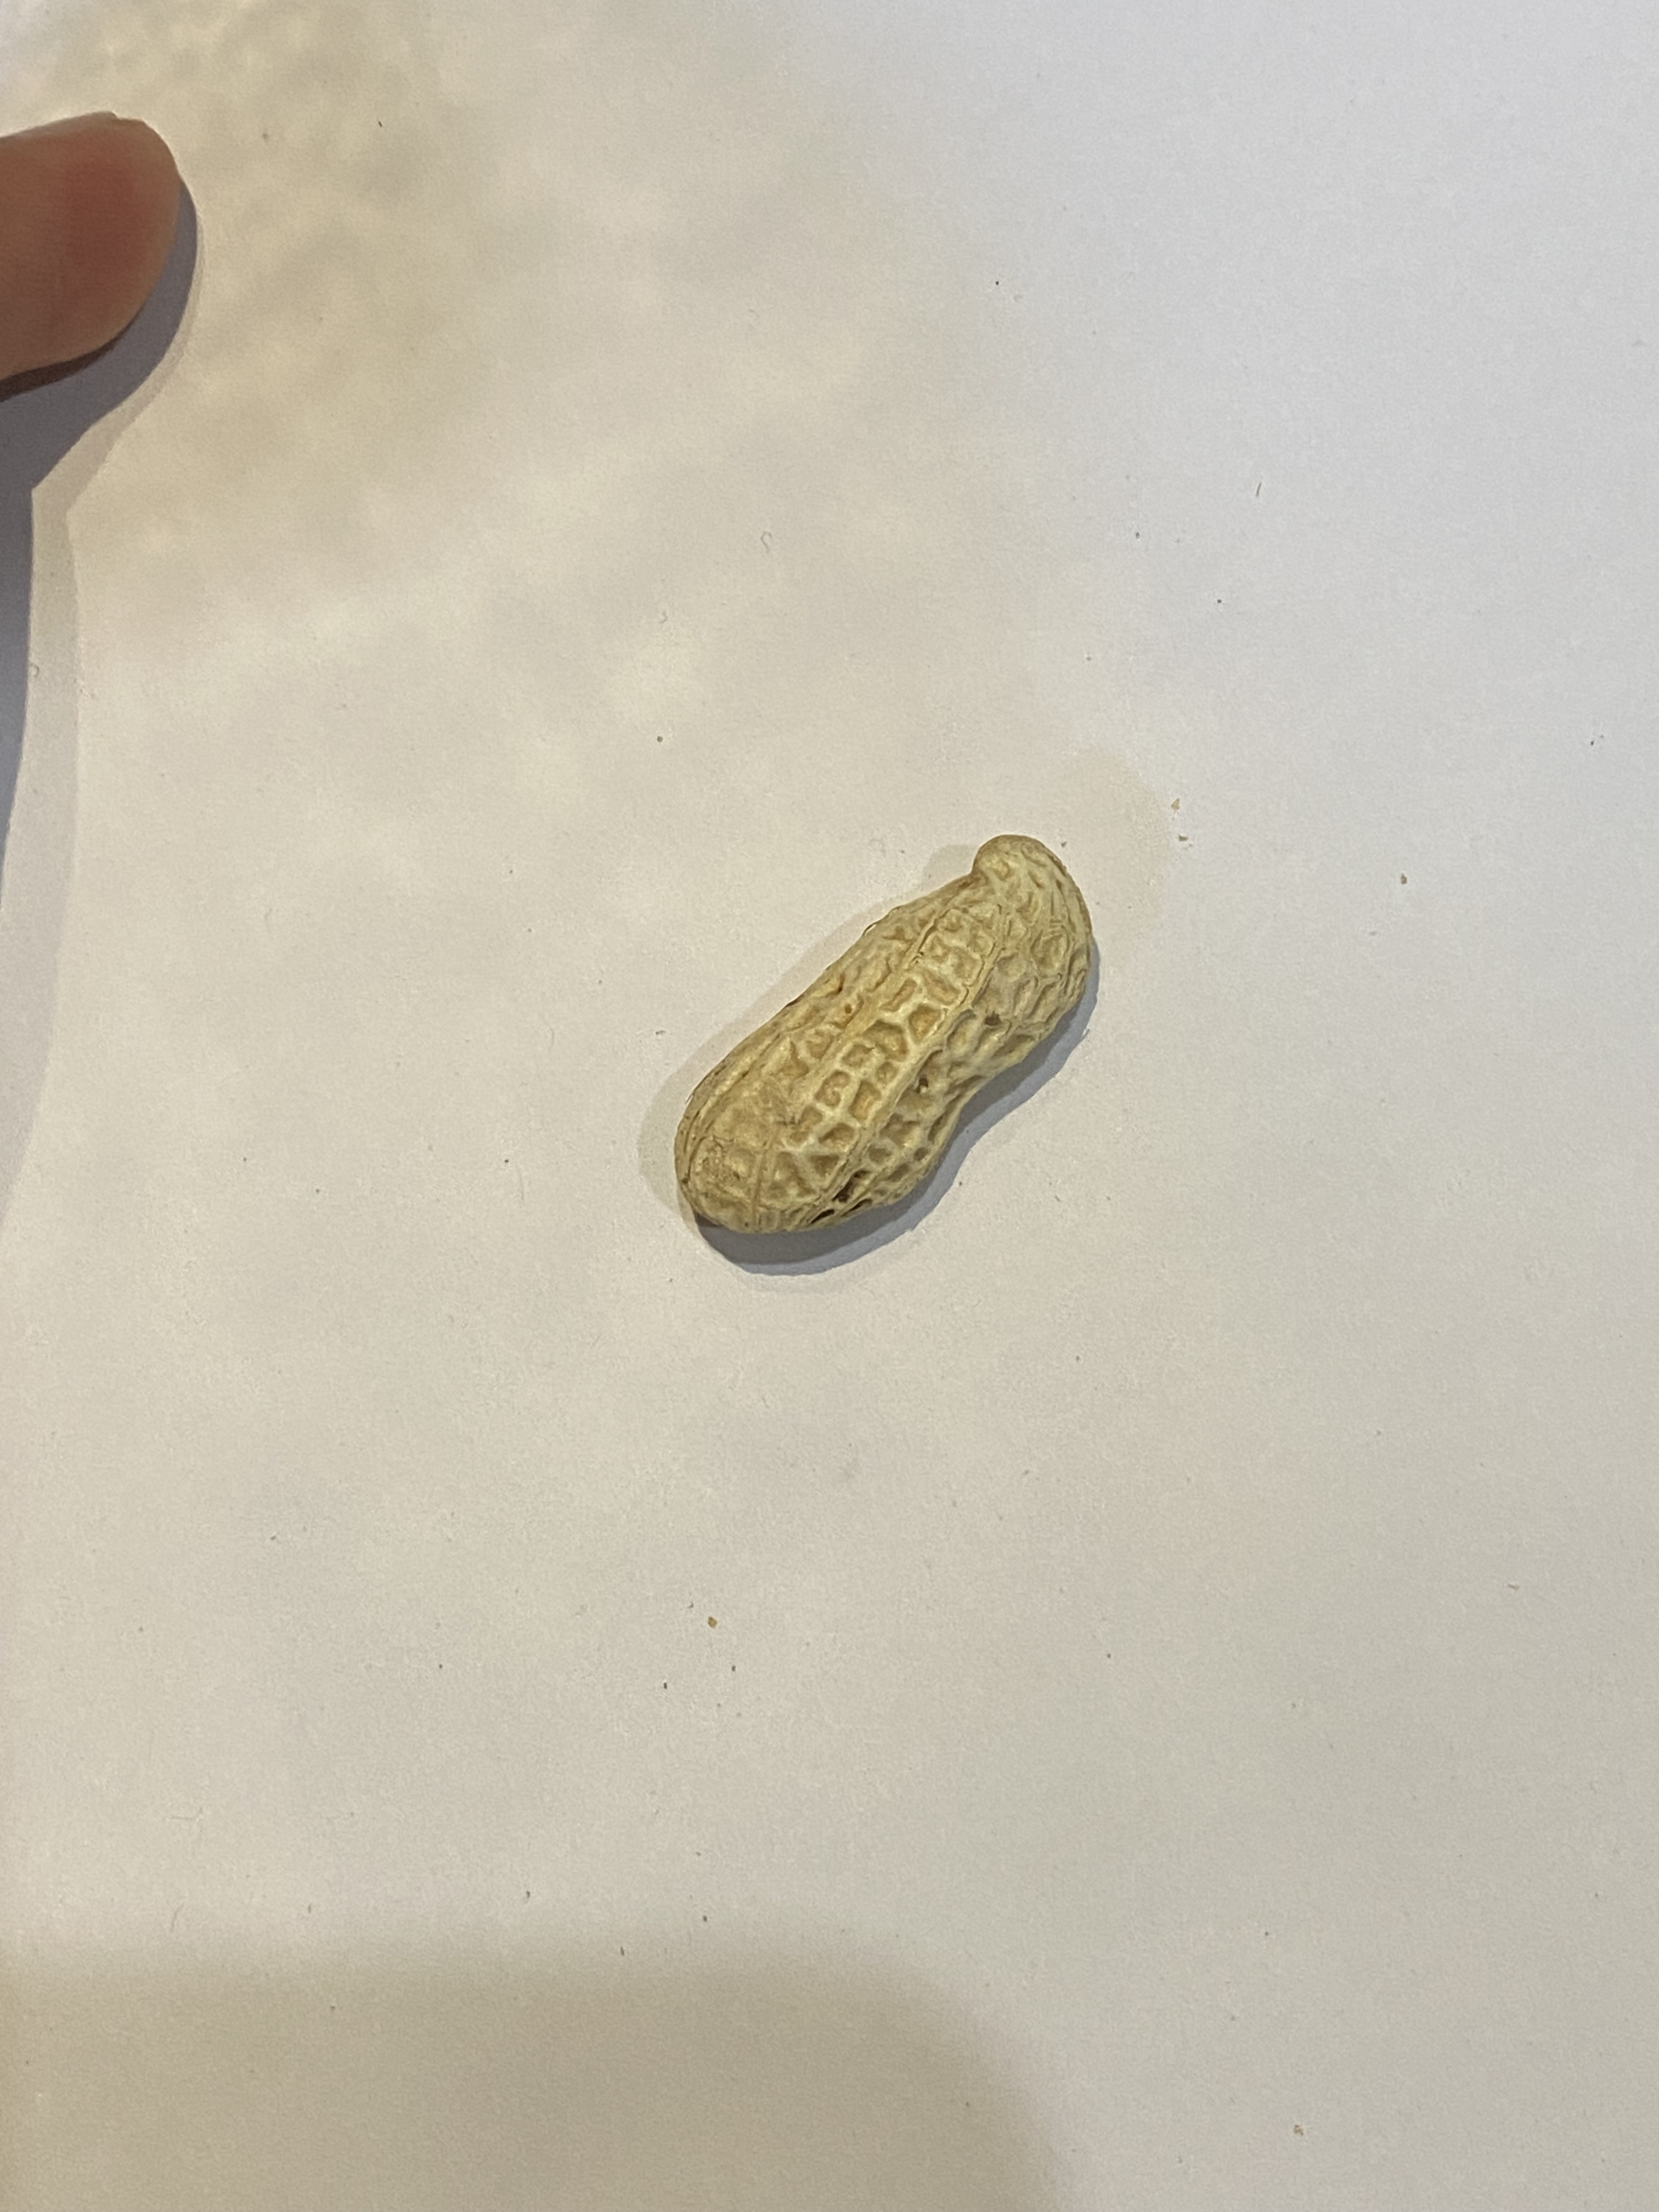kacang2: (640, 822, 1119, 1244)
